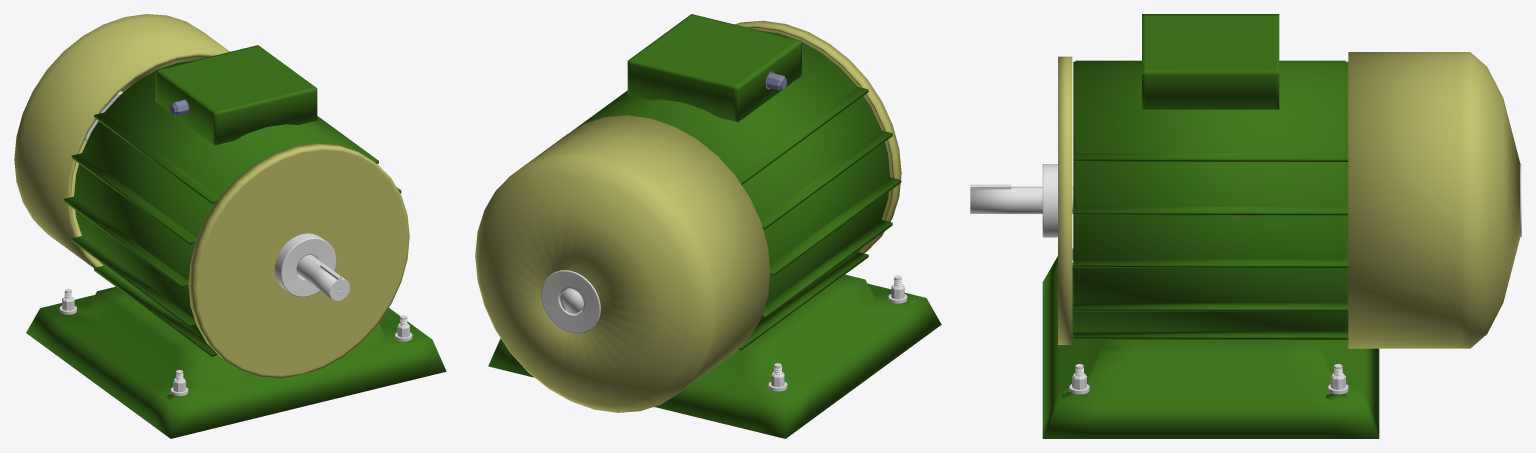
The model's file is motor.fbx.
3 renders of one model, left to right at view 1: azimuth 30°, elevation 25°; view 2: azimuth 150°, elevation 25°; view 3: azimuth 270°, elevation 25°, orthographic. The views are drawn at different scales.
Parts seen in each view (by area): view 1: front_casing, casing, base, fan_cover, electric_box, front_bearing, shaft; view 2: fan_cover, casing, base, electric_box, front_casing, rear_beasing, shaft; view 3: casing, fan_cover, base, electric_box, front_casing, shaft, front_bearing.
Part boxes in pixels (left/top/right/bottom): front_casing: left=188, top=143, right=409, bottom=378; casing: left=63, top=60, right=409, bottom=357; base: left=26, top=286, right=446, bottom=438; fan_cover: left=14, top=14, right=229, bottom=267; electric_box: left=155, top=45, right=317, bottom=145; front_bearing: left=274, top=233, right=336, bottom=297; shaft: left=296, top=254, right=350, bottom=300; fan_cover: left=475, top=115, right=770, bottom=412; casing: left=570, top=31, right=901, bottom=350; base: left=488, top=274, right=941, bottom=438; electric_box: left=627, top=14, right=801, bottom=121; front_casing: left=735, top=20, right=901, bottom=253; rear_beasing: left=541, top=270, right=600, bottom=333; shaft: left=560, top=288, right=583, bottom=313; casing: left=1073, top=60, right=1348, bottom=339; fan_cover: left=1348, top=52, right=1520, bottom=348; base: left=1042, top=256, right=1379, bottom=438; electric_box: left=1142, top=14, right=1279, bottom=109; front_casing: left=1058, top=56, right=1072, bottom=344; shaft: left=970, top=184, right=1073, bottom=213; front_bearing: left=1042, top=164, right=1057, bottom=237.
Size of the model in its own units: 201 by 135 by 127.
